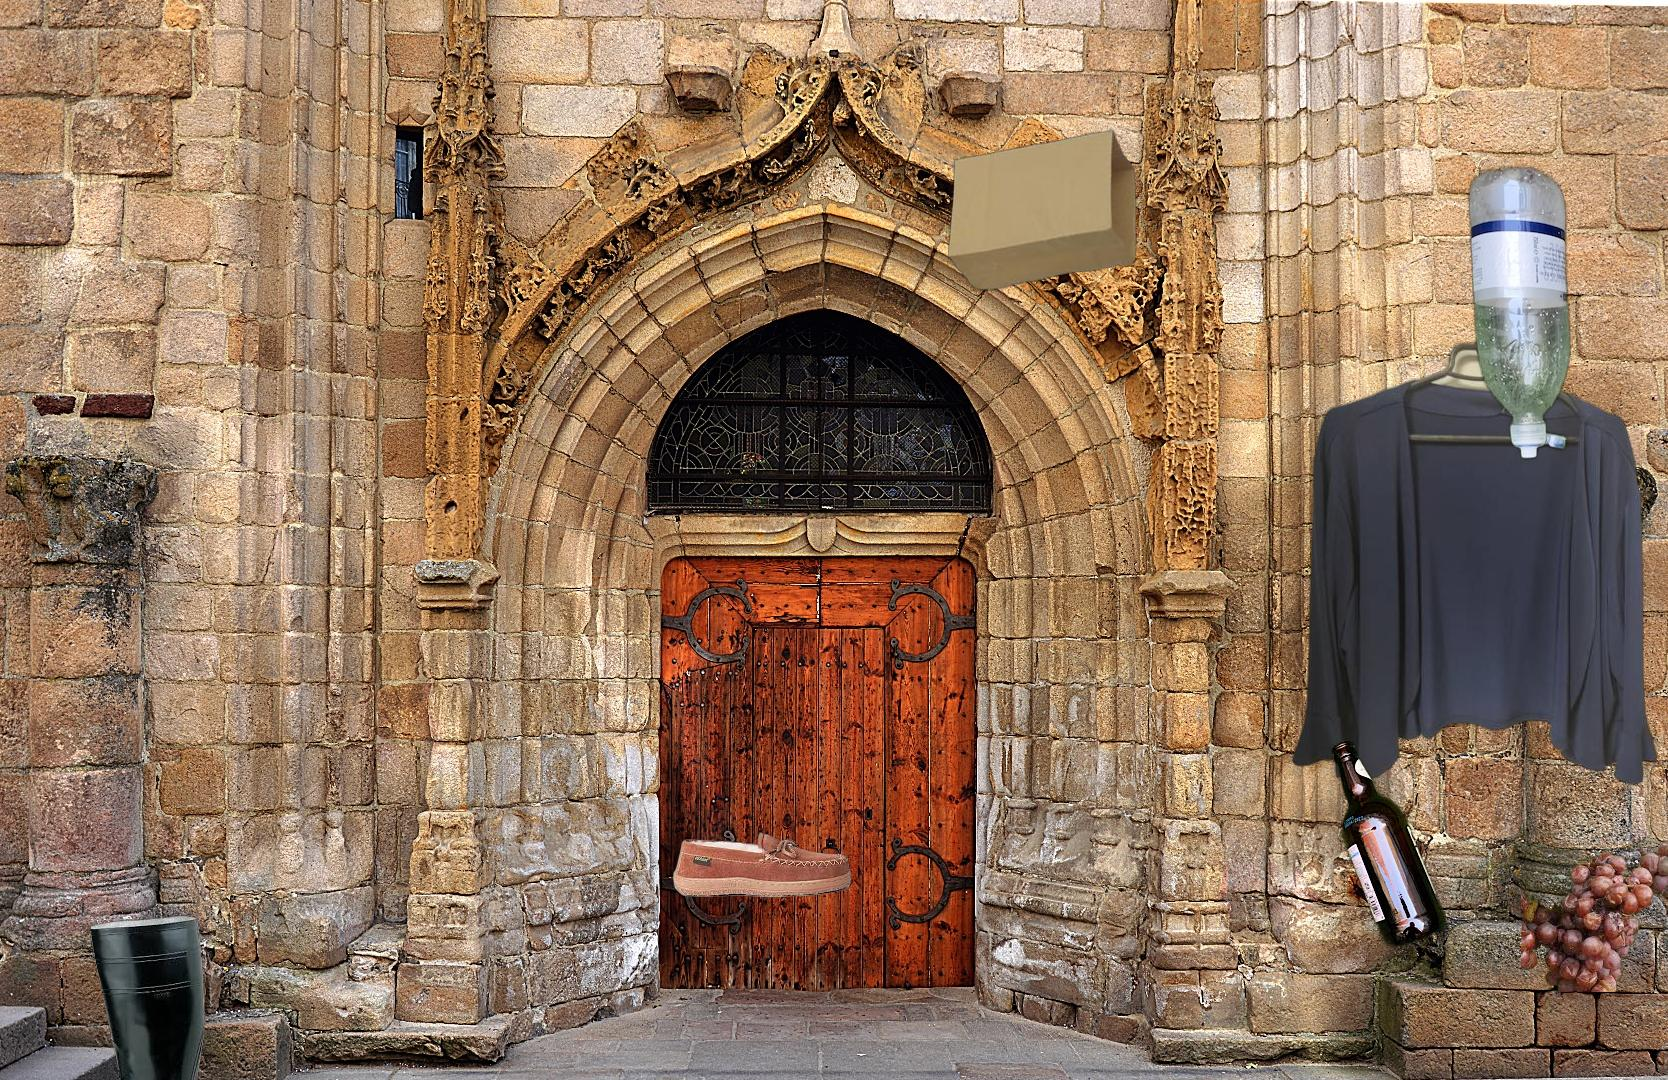biological: (1521, 825, 1668, 992)
clothes: (1289, 306, 1661, 788)
glass: (1328, 735, 1452, 952)
paper-bag: (945, 123, 1139, 293)
plastic-bottles: (1465, 161, 1574, 465)
shoes: (41, 913, 210, 1080), (670, 829, 853, 900)
trashbox-cardboard: (1666, 23, 1668, 705)
